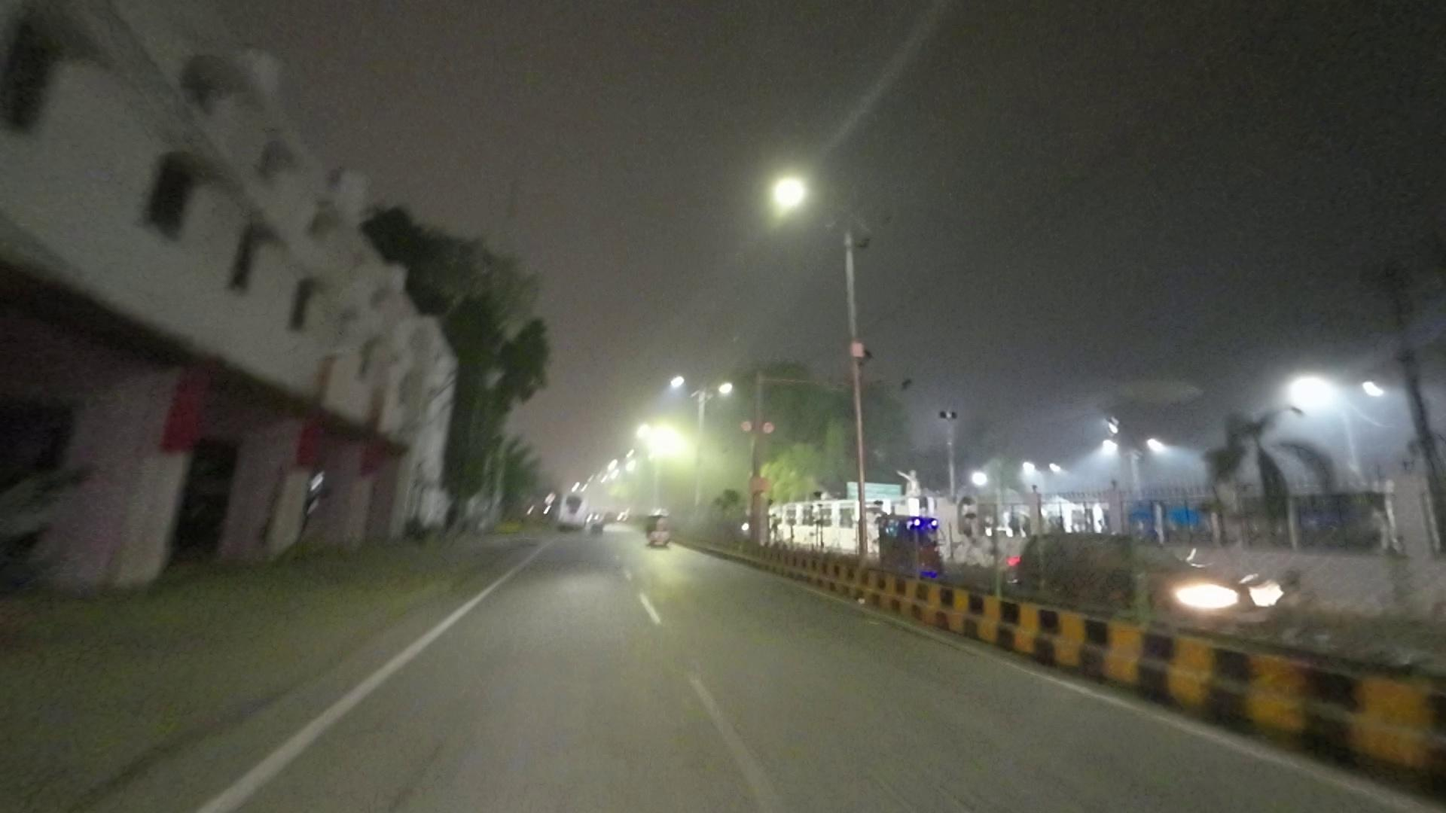streetlight: (868, 205, 898, 230)
